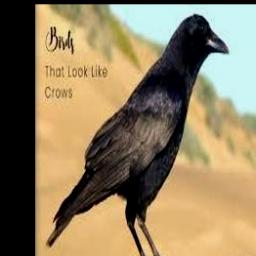Crow: (46, 13, 229, 256)
